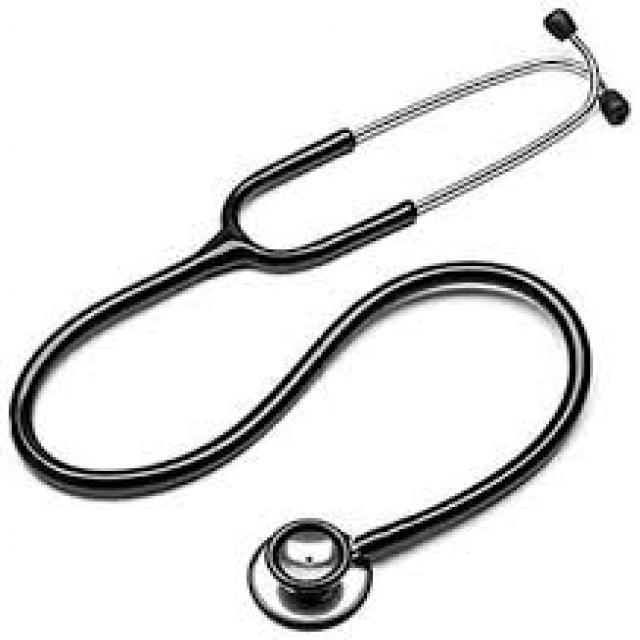stethoscope: (27, 7, 628, 621)
